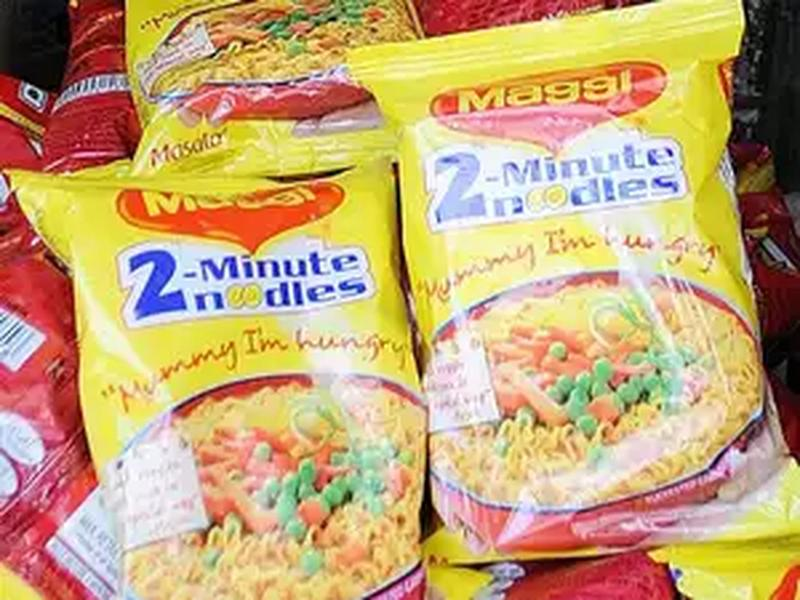maggi-small: (371, 35, 800, 537), (7, 158, 430, 598)
